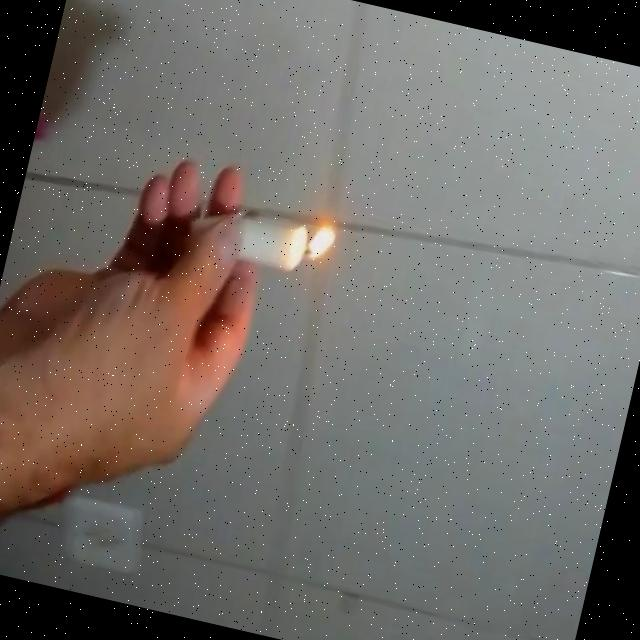fire: (302, 211, 341, 266)
